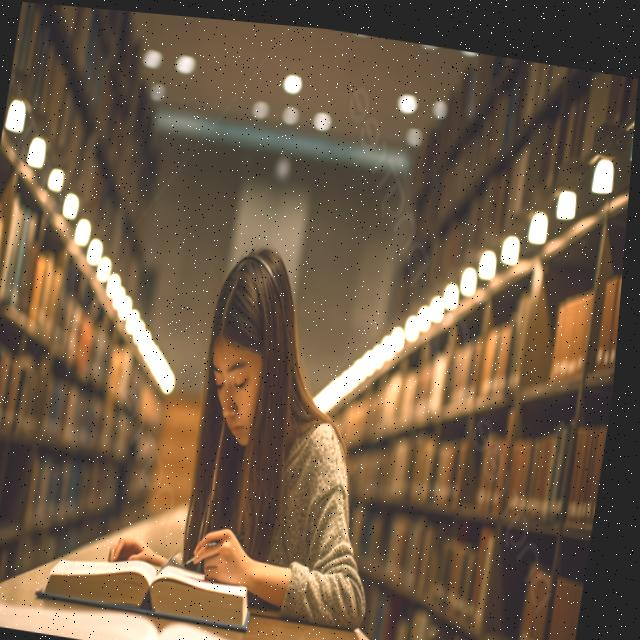studying-person: (39, 200, 430, 640)
